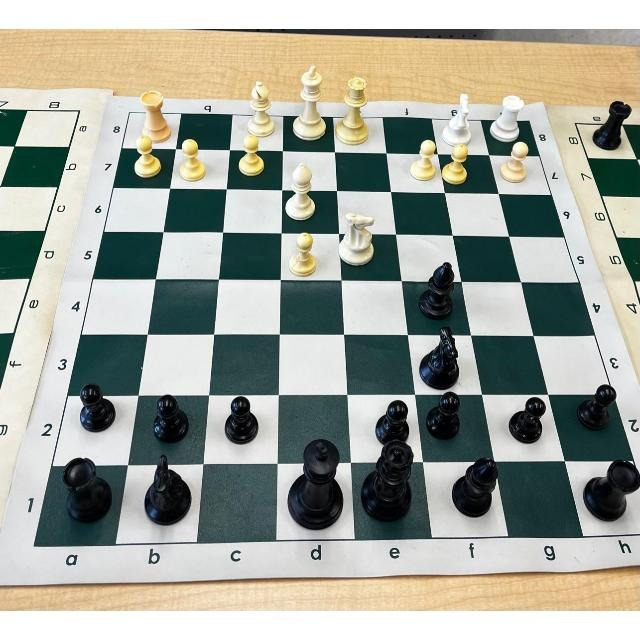black-bishop: (448, 455, 499, 521), (418, 253, 458, 322)
black-king: (289, 438, 345, 523)
black-knight: (145, 456, 189, 525), (417, 330, 463, 388)
black-pawn: (145, 385, 192, 445), (68, 378, 118, 432), (507, 394, 547, 445), (373, 399, 414, 447), (222, 398, 262, 446), (430, 388, 461, 445), (585, 383, 615, 430)
black-queen: (367, 443, 417, 525)
black-rook: (578, 454, 640, 521), (57, 451, 111, 523), (595, 97, 629, 149)
white-bishop: (241, 77, 280, 137), (285, 162, 319, 222)
white-king: (295, 65, 326, 143)
white-knight: (342, 207, 376, 264), (443, 95, 477, 147)
white-pawn: (230, 133, 265, 178), (173, 138, 207, 182), (131, 134, 159, 179), (288, 235, 316, 279), (504, 140, 529, 186), (410, 140, 436, 180), (449, 145, 469, 183)
white-queen: (343, 72, 367, 144)
white-rook: (134, 90, 173, 142), (493, 93, 525, 142)
